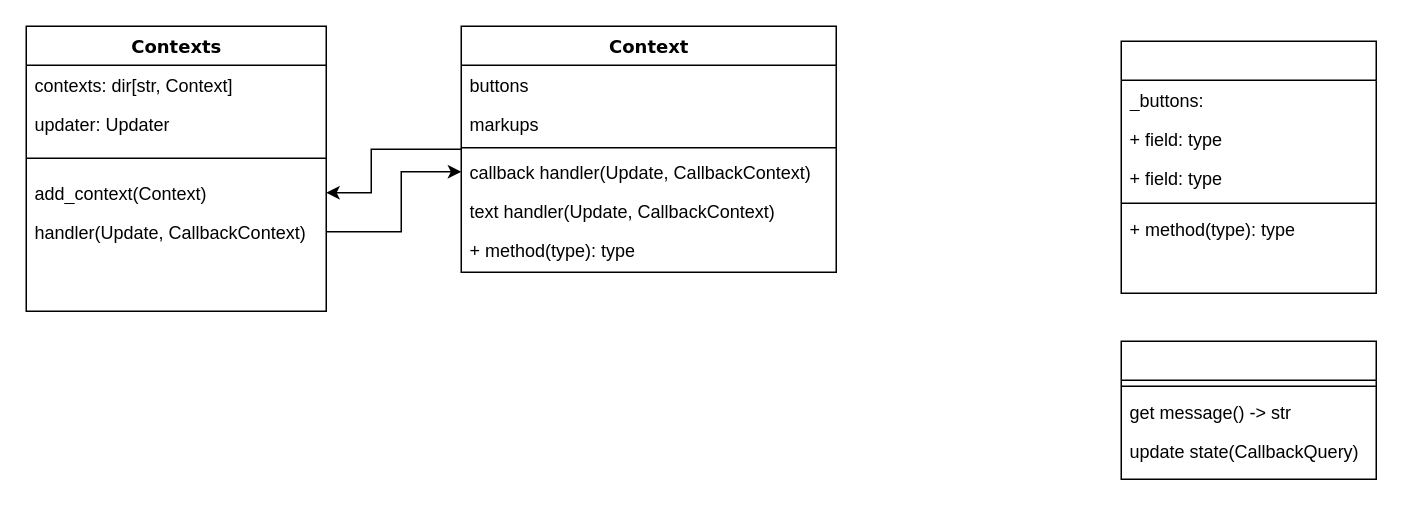
The diagram is 1403 pixels wide and 506 high, and some of its shapes have lost their labels. Each missing label, with the box of its shape:
ILButton: (1120, 40, 1376, 293)
ILMarkup: (1120, 340, 1376, 479)
